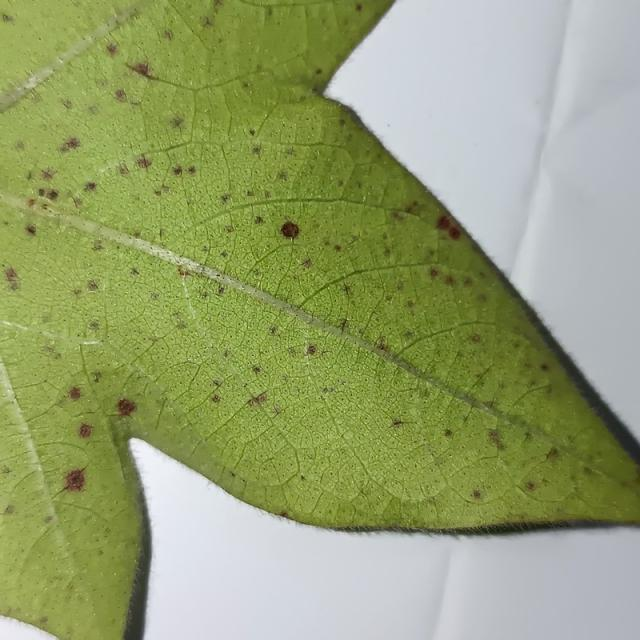Bacterial_Blight: (49, 463, 90, 500), (275, 216, 302, 243), (54, 384, 86, 406), (286, 341, 322, 359), (110, 396, 139, 418), (125, 60, 156, 80), (3, 266, 22, 290), (58, 137, 82, 154), (170, 163, 195, 178), (247, 392, 267, 408), (77, 422, 94, 440), (40, 344, 60, 359), (436, 215, 452, 231), (488, 429, 502, 447), (621, 478, 638, 492), (136, 155, 152, 169), (41, 167, 57, 181), (375, 338, 389, 353), (43, 188, 59, 201), (105, 42, 119, 56), (199, 15, 213, 29), (169, 116, 184, 129), (448, 226, 461, 240), (114, 89, 128, 102), (30, 90, 44, 103), (391, 210, 407, 221), (546, 447, 559, 460), (41, 311, 54, 324), (155, 185, 170, 196), (25, 224, 37, 237), (118, 163, 130, 176), (2, 13, 15, 25), (390, 417, 404, 428), (339, 318, 350, 332), (341, 282, 352, 296), (41, 203, 55, 214), (55, 397, 69, 408), (321, 386, 336, 396), (87, 280, 99, 292), (92, 239, 104, 251), (72, 197, 84, 209), (91, 371, 103, 383), (84, 181, 97, 192), (276, 170, 289, 181), (522, 430, 533, 443), (420, 386, 431, 399), (483, 399, 495, 410), (62, 98, 73, 110), (301, 258, 312, 269), (220, 193, 231, 204), (272, 405, 283, 416), (163, 29, 174, 40), (15, 141, 26, 152), (444, 275, 454, 286), (251, 145, 262, 155), (477, 293, 488, 303), (89, 320, 100, 330), (526, 481, 537, 491), (583, 466, 594, 476), (4, 505, 15, 515), (403, 330, 414, 340), (88, 105, 99, 115), (177, 267, 187, 277), (429, 268, 439, 278), (472, 489, 482, 499), (130, 266, 140, 276), (471, 334, 482, 343), (254, 215, 265, 224), (285, 147, 296, 156), (212, 379, 222, 388), (28, 198, 37, 208), (72, 288, 82, 297), (211, 394, 221, 403), (150, 292, 160, 301), (540, 363, 549, 372), (444, 428, 453, 437), (269, 326, 278, 335), (224, 225, 234, 233), (218, 285, 226, 295), (1, 466, 11, 474), (44, 515, 54, 523), (177, 321, 187, 329), (635, 467, 640, 483), (252, 366, 261, 374), (242, 81, 251, 89), (406, 300, 415, 308), (279, 510, 288, 518), (220, 251, 229, 259), (39, 616, 48, 624), (498, 380, 506, 389), (334, 244, 342, 252), (315, 68, 323, 76), (396, 283, 404, 291), (355, 3, 362, 12), (248, 129, 256, 136), (246, 190, 254, 197), (300, 474, 306, 481)
Cotton: (0, 0, 639, 639)
